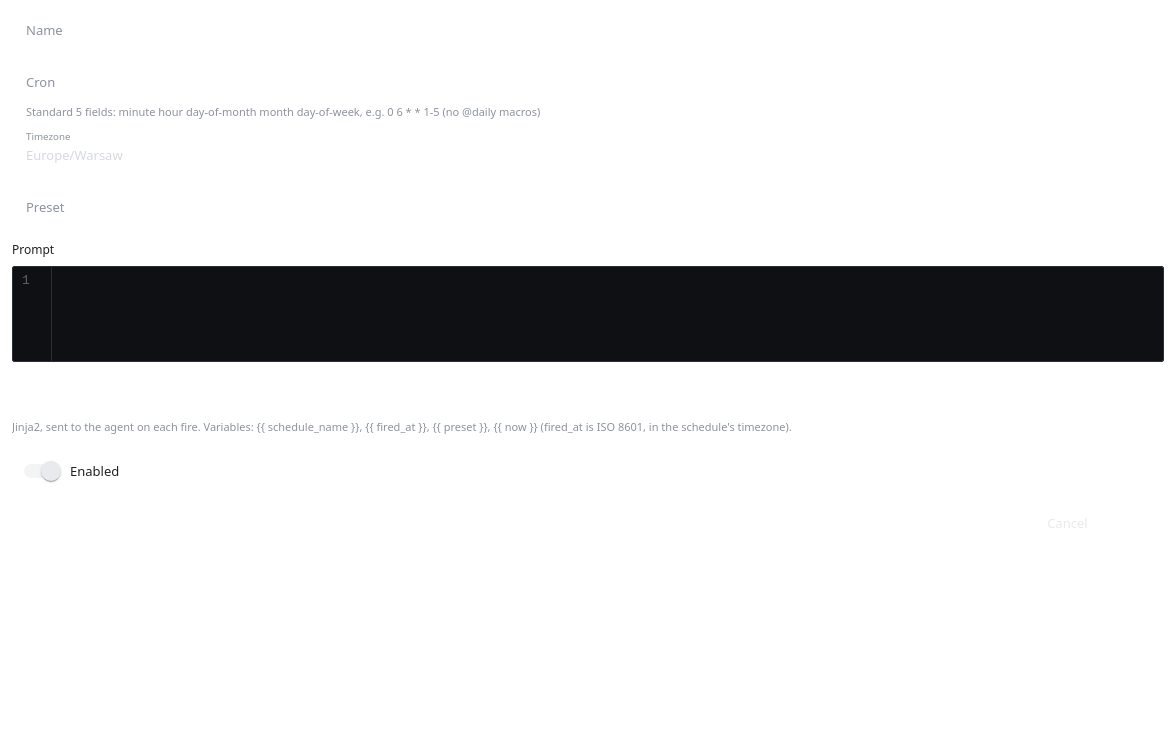
preview › preview shows the reason of an invalid cron under the cron field
The width and height of the screenshot is (1176, 732).
Type "nope" into the field labelled "Cron" at (588, 82), box 12,64 -> 1164,99
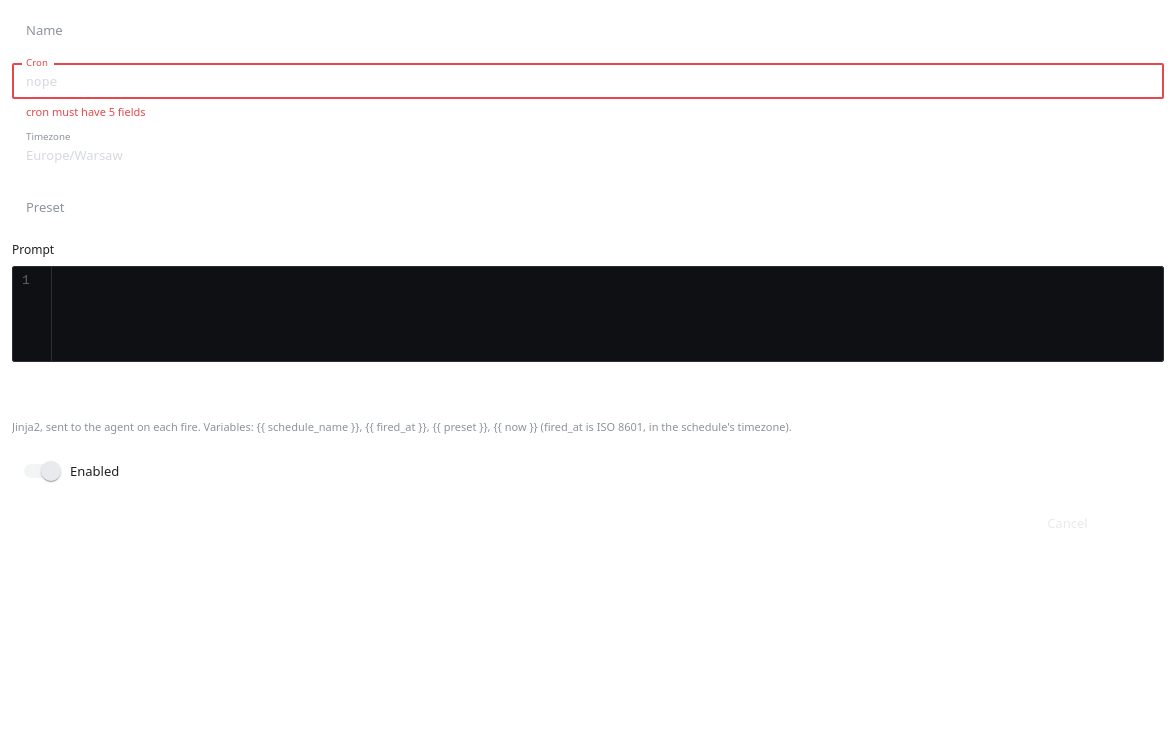
Expected: the text "cron must have 5 fields" is shown, 26,104 -> 146,119
